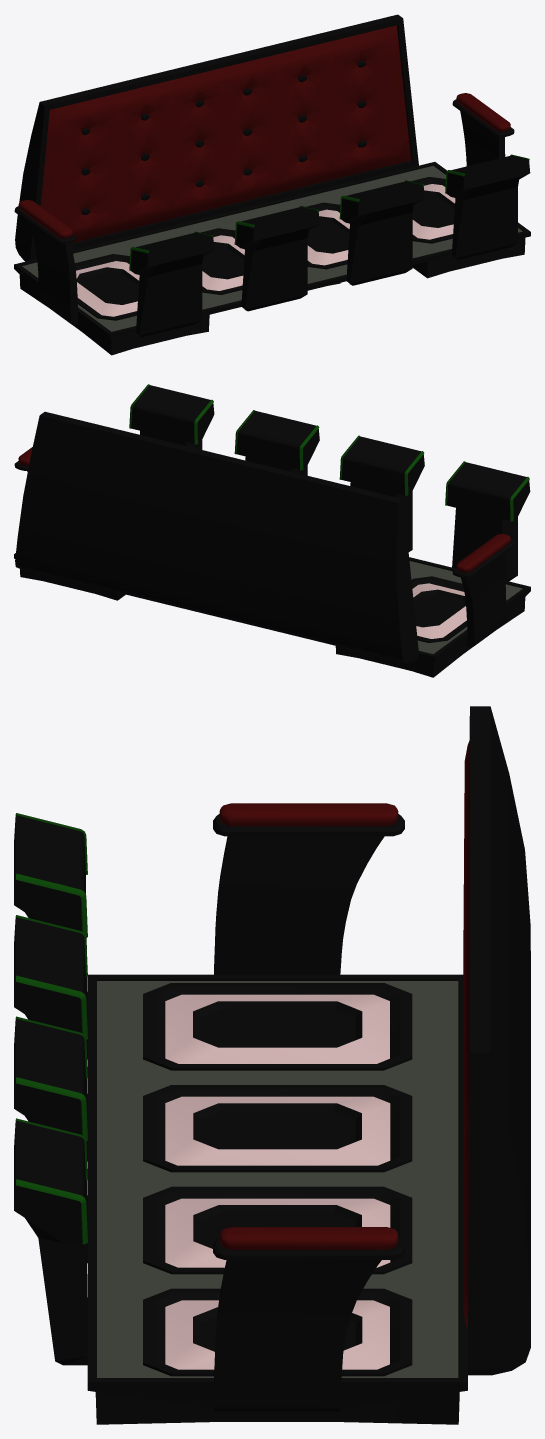
Rendered from playerplatform_4.fbx.
3 renders of one model, top to bottom at view 1: azimuth 30°, elevation 25°; view 2: azimuth 150°, elevation 25°; view 3: azimuth 270°, elevation 25°, orthographic. The views are drawn at different scales.
Parts seen in each view (by area): view 1: pCube8; view 2: pCube8; view 3: pCube8.
Boxes of the visible parts, x1,y1,x2,y2 form: pCube8: [14, 14, 530, 355]; pCube8: [14, 384, 530, 677]; pCube8: [14, 706, 530, 1424].
Bounding box in the file's own units: 174 × 63.45 × 86.1.
